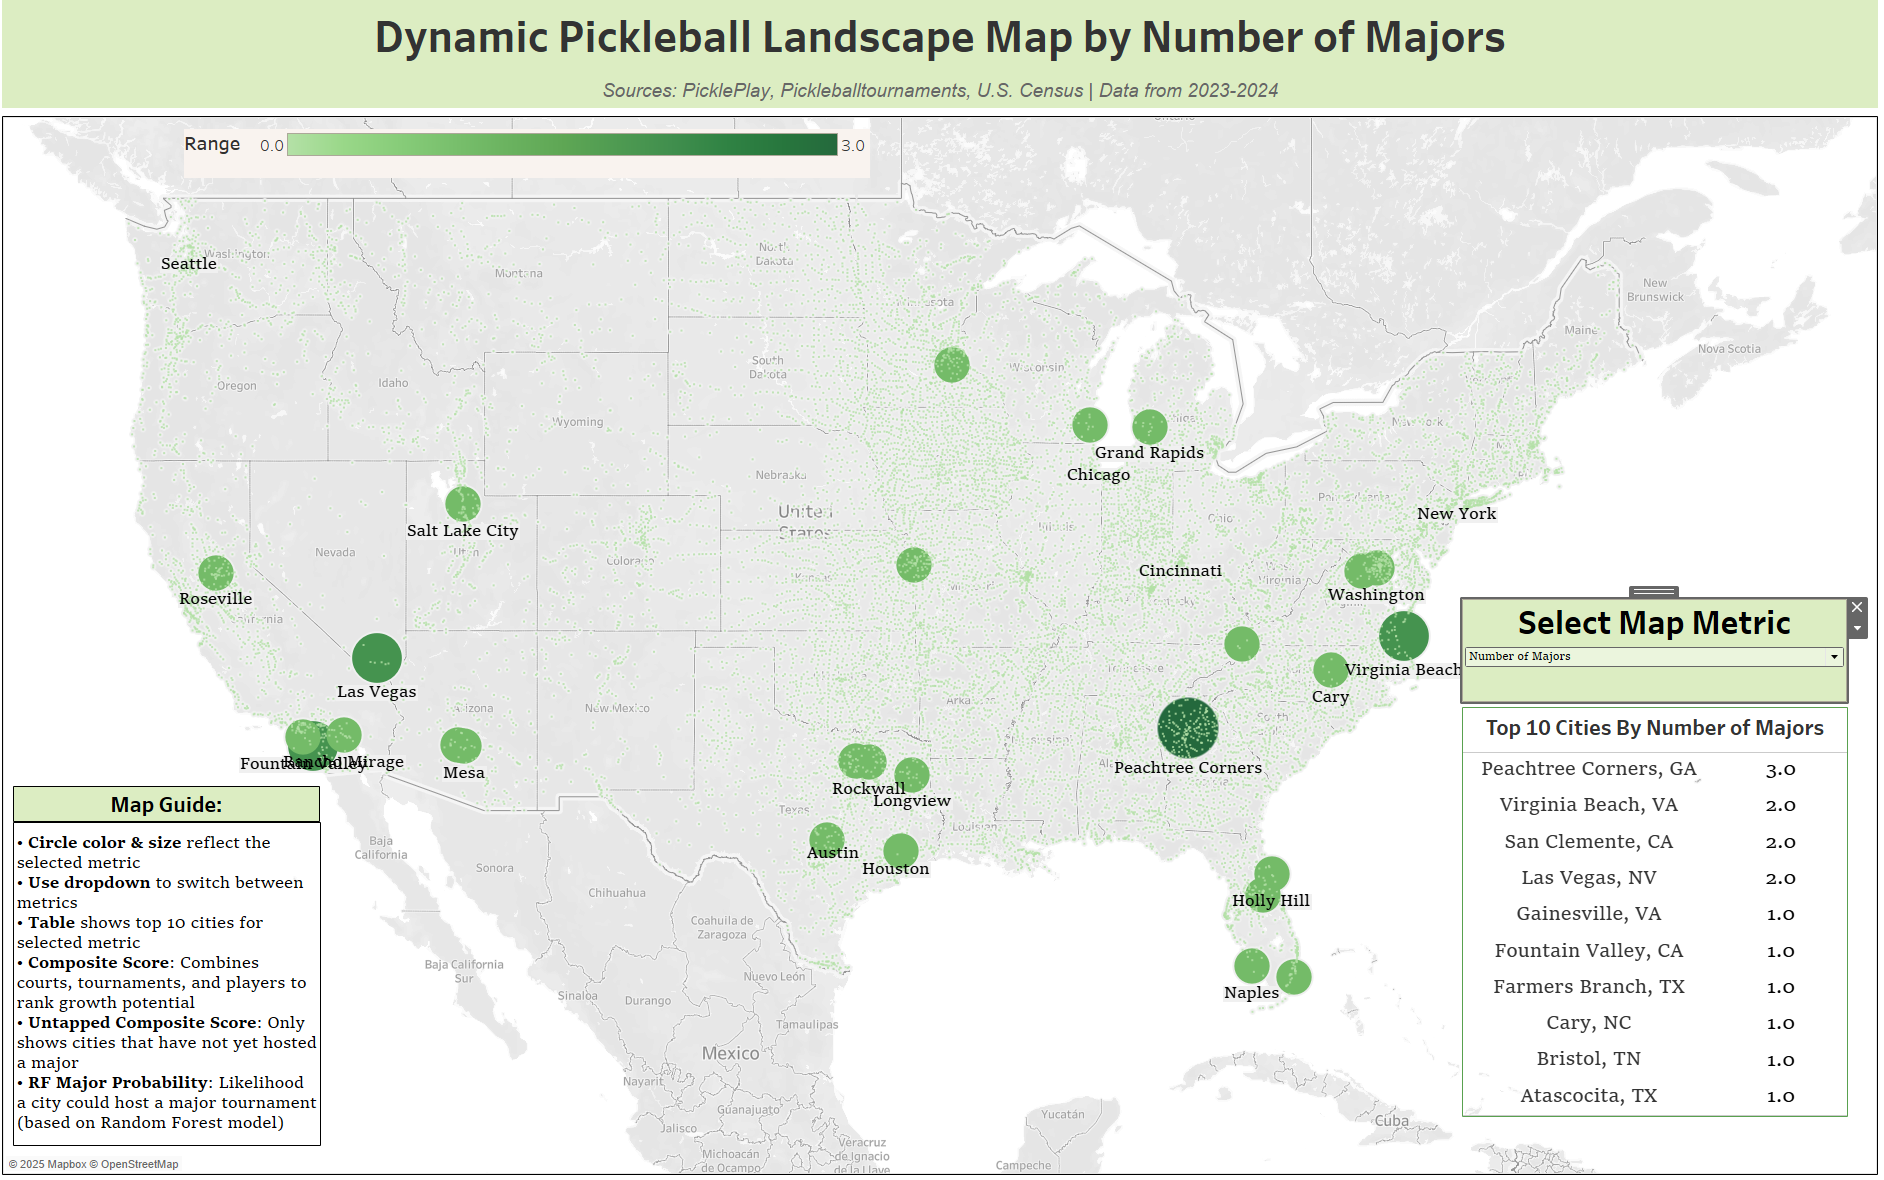

What the dashboard file says about the page in this screenshot:
{"tool":"tableau","page":{"name":"Pickleball Dynamic Overview Map","canvas":[1900,1200],"ordinal":0},"visuals":[{"type":"text","box":[8,8,1884,116.9]},{"type":"worksheet","title":"Dynamic Pickleball Landscape Map","mark":"Automatic","box":[8,124.9,1884,1067.1]},{"type":"legend","title":"Dynamic Pickleball Landscape Map","param":"[federated.1uroyys0okk61s14kenbh1t98qae].[avg:Calculation_2274880825338425361:qk","box":[194,141.8,686,49.1]},{"type":"parameter","param":"[Parameters].[Parameter 2]","box":[1472,612,385,103]},{"type":"worksheet","title":"Top 10","mark":"Automatic","rows":["city_state"],"box":[1472,720,386,410]},{"type":"text","box":[23,799,307,36]},{"type":"text","box":[23,835,308,324]}]}

Visuals, with their boxes in screenshot pixels (x1, y1, x2, y2), scaled from the page's 1900x1200 canvas onto the 1884x1180 screenshot:
text: {"x1": 8, "y1": 8, "x2": 1876, "y2": 123}
"Dynamic Pickleball Landscape Map" worksheet: {"x1": 8, "y1": 123, "x2": 1876, "y2": 1172}
"Dynamic Pickleball Landscape Map" legend: {"x1": 192, "y1": 139, "x2": 873, "y2": 188}
parameter: {"x1": 1460, "y1": 602, "x2": 1841, "y2": 703}
"Top 10" worksheet: {"x1": 1460, "y1": 708, "x2": 1842, "y2": 1111}
text: {"x1": 23, "y1": 786, "x2": 327, "y2": 821}
text: {"x1": 23, "y1": 821, "x2": 328, "y2": 1140}
